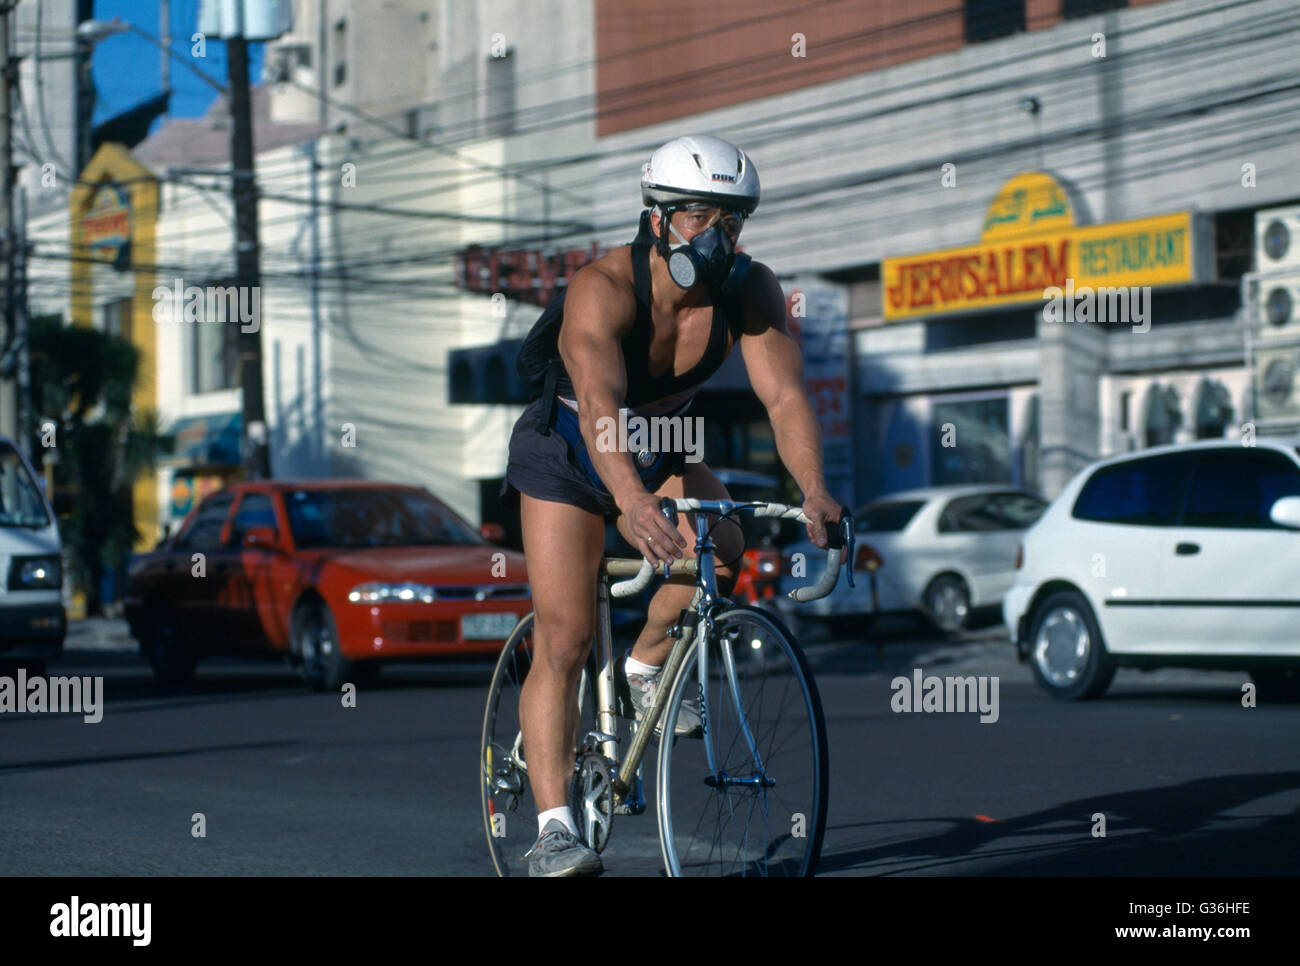helmet: (640, 134, 761, 290)
